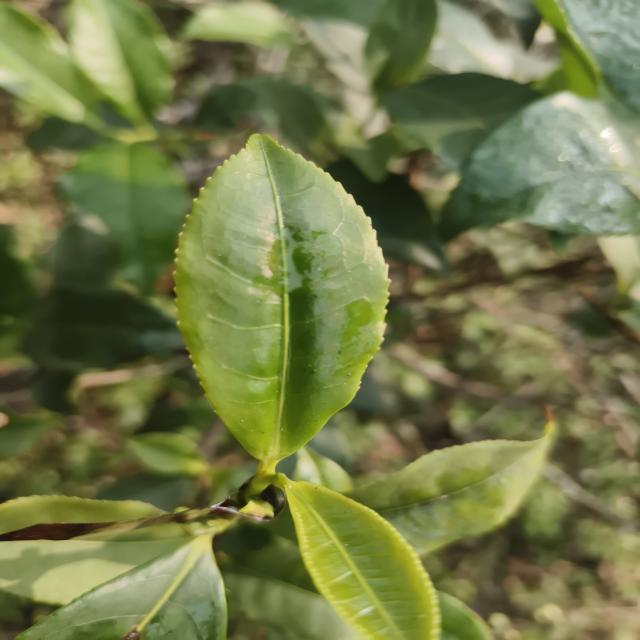Leaf: (175, 135, 389, 473), (441, 92, 640, 240), (280, 478, 440, 640), (350, 430, 552, 553), (16, 533, 226, 640), (61, 142, 191, 293), (0, 524, 194, 605), (385, 72, 541, 171), (24, 285, 183, 371), (67, 0, 173, 126), (0, 2, 105, 128), (196, 77, 328, 153), (364, 0, 437, 97), (0, 495, 164, 533), (181, 0, 292, 48)
